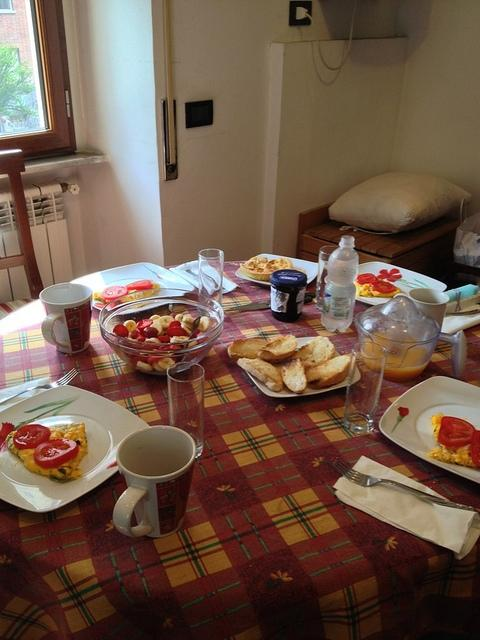banana: (198, 316, 211, 333), (158, 358, 176, 370), (158, 316, 174, 329), (150, 322, 163, 336), (136, 361, 154, 371), (123, 320, 136, 333), (152, 361, 166, 372), (182, 313, 196, 324), (180, 324, 192, 334), (170, 336, 188, 342), (182, 322, 194, 331), (145, 338, 161, 343), (174, 314, 183, 321), (150, 315, 161, 320), (126, 338, 138, 342)
tomato: (33, 438, 79, 469), (438, 416, 476, 447), (12, 424, 51, 450), (102, 286, 128, 300), (470, 430, 480, 466), (370, 280, 396, 293), (123, 280, 152, 291), (356, 272, 378, 284)
